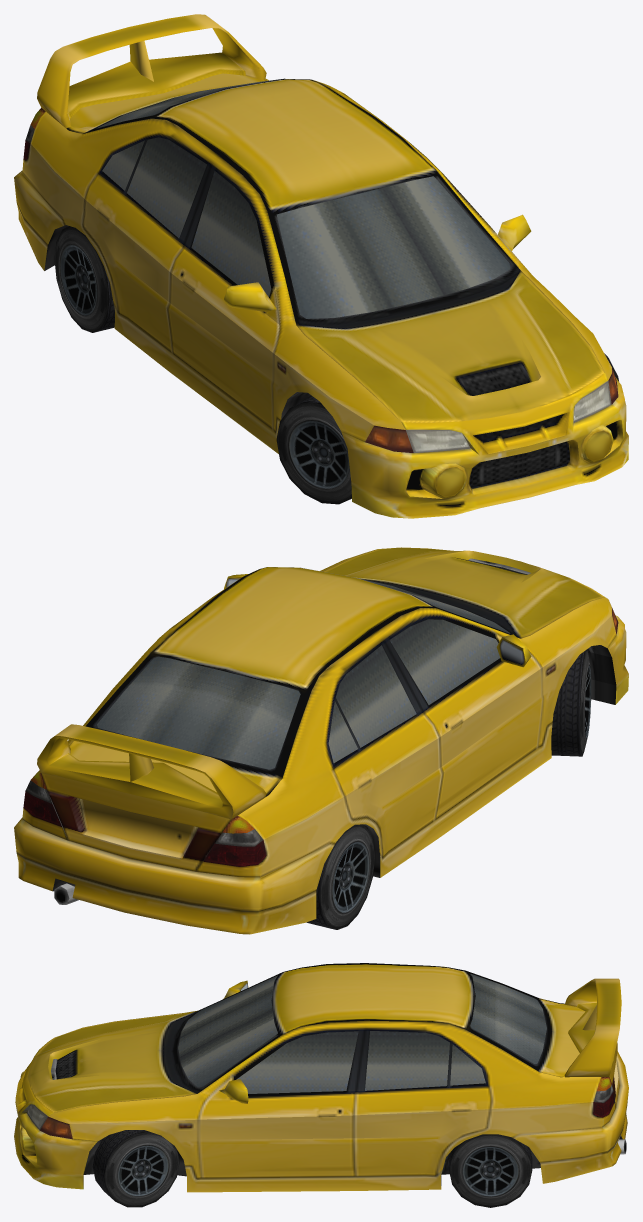
The model's file is Thunderbolt96.fbx.
3 renders of one model, top to bottom at view 1: azimuth 30°, elevation 25°; view 2: azimuth 150°, elevation 25°; view 3: azimuth 270°, elevation 25°, orthographic. The views are drawn at different scales.
Parts seen in each view (by area): view 1: Body, Glass, Hood, Bumper_front, Spoiler, Wheel_FR, Wheel_RR, Bumper_rear, Trunk, Glass_Headlights; view 2: Body, Glass, Bumper_rear, Trunk, Hood, Spoiler, Wheel_RR, Wheel_FR, Bottom, Glass_Stoplights, Bumper_front, Glass_Reverse; view 3: Body, Glass, Hood, Wheel_FL, Wheel_RL, Bumper_rear, Spoiler, Bumper_front, Trunk, Bottom.
Boxes of the visible parts, x1=… form: Body: x1=22, y1=78, x2=618, y2=453; Glass: x1=97, y1=79, x2=509, y2=318; Hood: x1=296, y1=271, x2=608, y2=435; Bumper_front: x1=341, y1=377, x2=628, y2=518; Spoiler: x1=37, y1=14, x2=266, y2=128; Wheel_FR: x1=276, y1=395, x2=351, y2=504; Wheel_RR: x1=54, y1=226, x2=114, y2=332; Bumper_rear: x1=14, y1=170, x2=66, y2=270; Trunk: x1=66, y1=73, x2=266, y2=133; Glass_Headlights: x1=406, y1=380, x2=611, y2=452; Body: x1=22, y1=551, x2=618, y2=877; Glass: x1=97, y1=579, x2=509, y2=769; Bumper_rear: x1=14, y1=795, x2=335, y2=934; Trunk: x1=41, y1=740, x2=281, y2=871; Hood: x1=323, y1=547, x2=604, y2=638; Spoiler: x1=37, y1=724, x2=266, y2=819; Wheel_RR: x1=306, y1=824, x2=374, y2=929; Wheel_FR: x1=551, y1=649, x2=591, y2=756; Bottom: x1=50, y1=558, x2=616, y2=904; Glass_Stoplights: x1=23, y1=791, x2=266, y2=866; Bumper_front: x1=608, y1=615, x2=628, y2=704; Glass_Reverse: x1=25, y1=780, x2=263, y2=846; Body: x1=40, y1=963, x2=615, y2=1192; Glass: x1=178, y1=974, x2=546, y2=1093; Hood: x1=22, y1=1011, x2=196, y2=1116; Wheel_FL: x1=92, y1=1130, x2=179, y2=1207; Wheel_RL: x1=449, y1=1134, x2=532, y2=1207; Bumper_rear: x1=511, y1=1051, x2=628, y2=1183; Spoiler: x1=564, y1=978, x2=621, y2=1077; Bumper_front: x1=14, y1=1068, x2=96, y2=1189; Trunk: x1=540, y1=998, x2=619, y2=1107; Bottom: x1=51, y1=1059, x2=626, y2=1185.
Bounding box in the file's own units: 1810 × 1295 × 4203.
